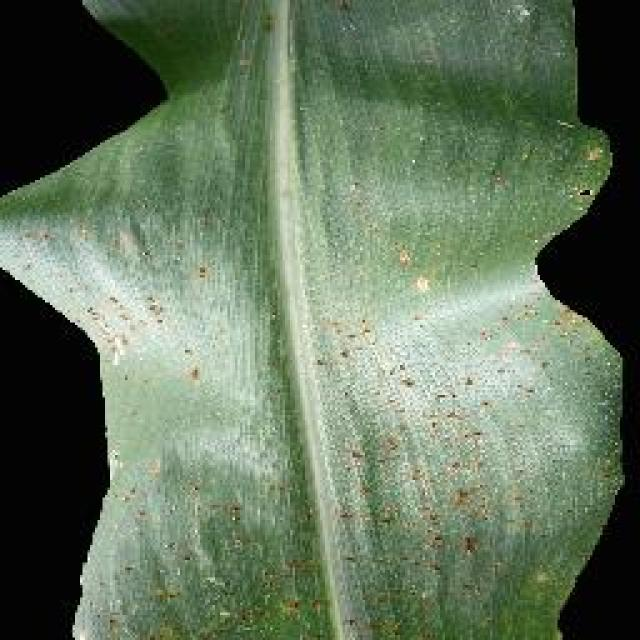Corn Common Rust: (128, 206, 606, 640)
